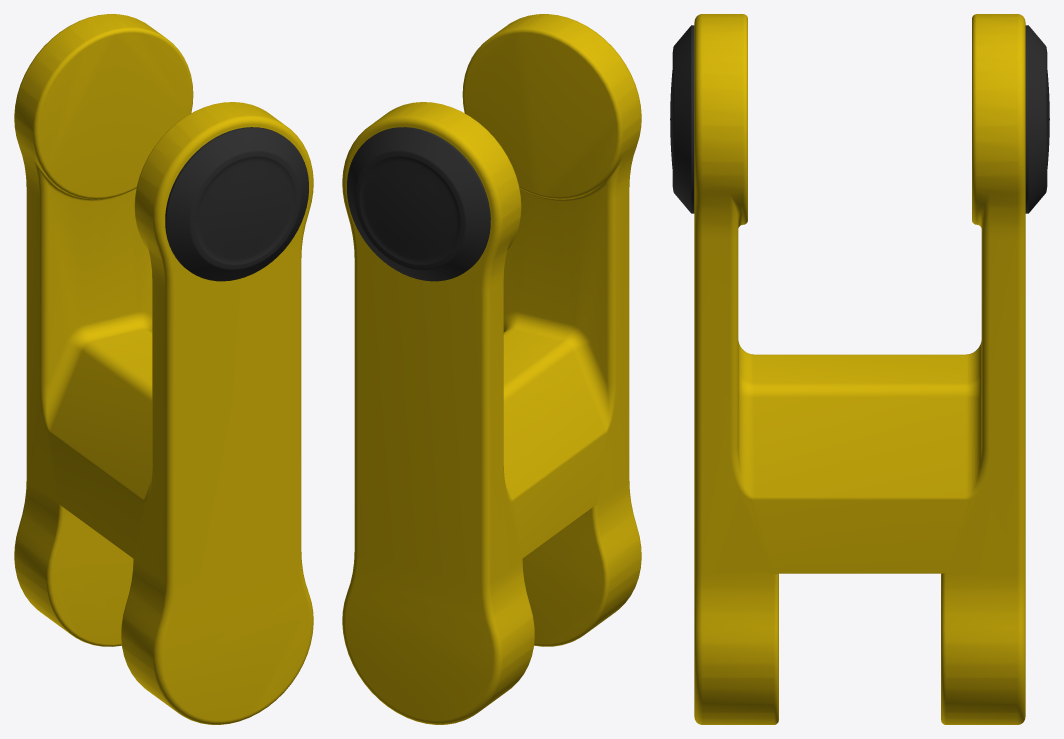
Rendered from torso1.glb.
3 views of the same model, side by side, from view 1: azimuth 30°, elevation 25°; view 2: azimuth 150°, elevation 25°; view 3: azimuth 270°, elevation 25° (orthographic). The views are drawn at different scales.
Parts seen in each view (by area): view 1: ankle; view 2: ankle; view 3: ankle.
Part boxes in pixels (x1,y1,x2,y2): ankle: (14,14,313,724); ankle: (342,14,641,724); ankle: (670,14,1049,724).
Bounding box in the file's own units: 0.13 × 0.4699 × 0.234.
